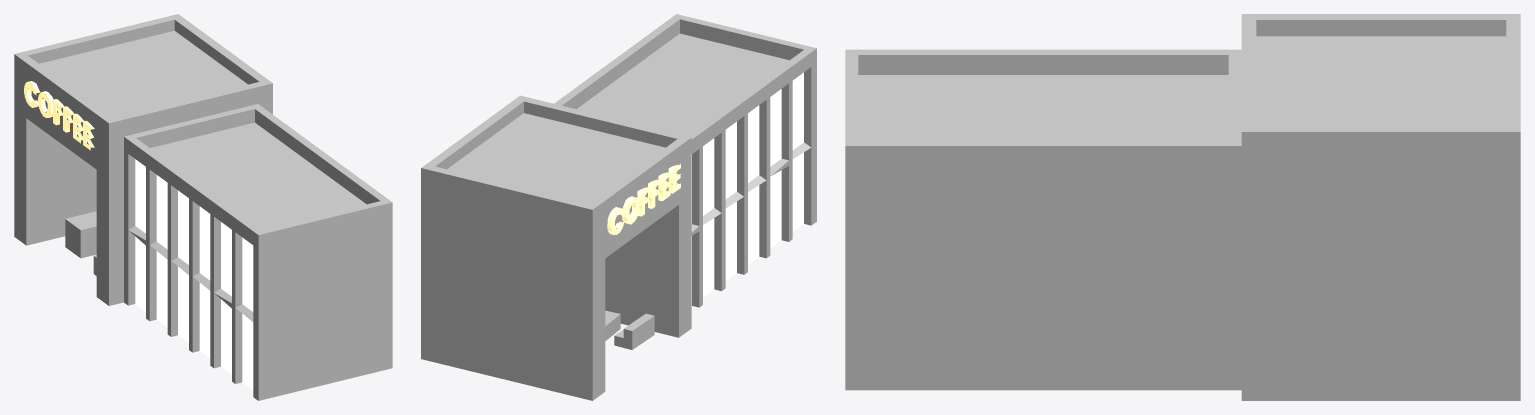
Rendered from Cafe.fbx.
The picture shows the model from 3 angles, left to right: view 1: azimuth 30°, elevation 25°; view 2: azimuth 150°, elevation 25°; view 3: azimuth 270°, elevation 25°; orthographic projection. The views are drawn at different scales.
Parts seen in each view (by area): view 1: Cafe.001; view 2: Cafe.001; view 3: Cafe.001.
Boxes of the visible parts, left/top/right/bottom form: Cafe.001: left=14, top=14, right=392, bottom=400; Cafe.001: left=421, top=14, right=816, bottom=400; Cafe.001: left=845, top=14, right=1520, bottom=400.
Size of the model in its own units: 1531 by 648 by 673.
